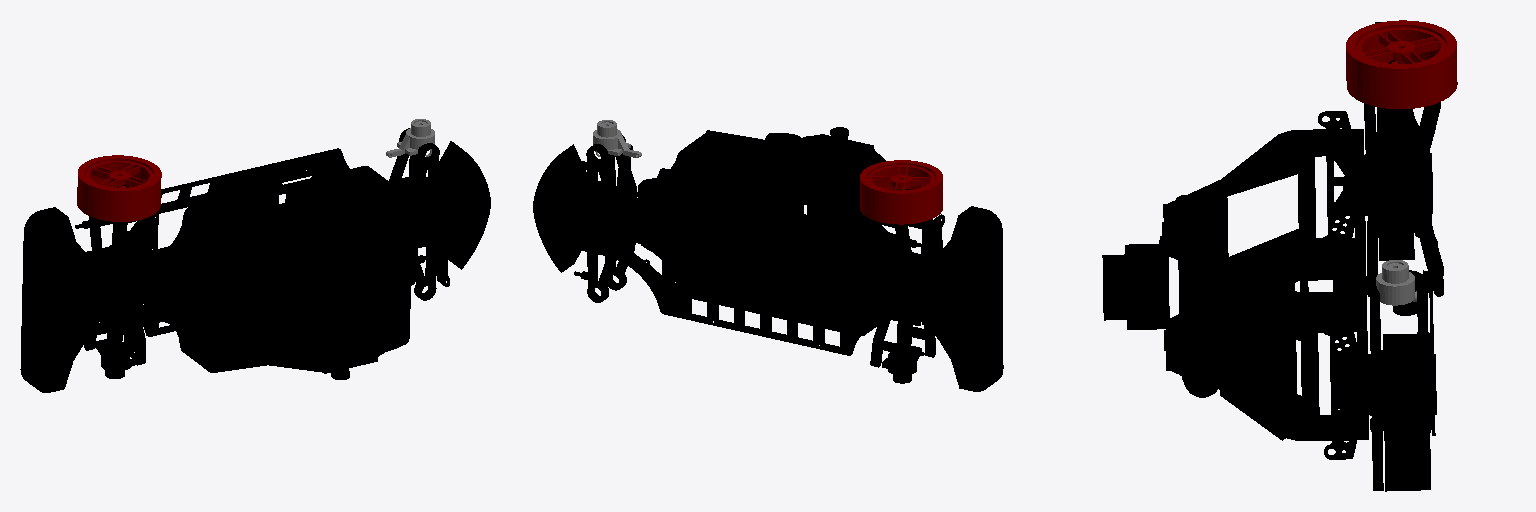
robot.urdf — Vehiculo_URDF:
<?xml version="1.0" encoding="utf-8"?>
<!-- This URDF was automatically created by SolidWorks to URDF Exporter! Originally created by [author] ([email redacted]) 
     Commit Version: 1.6.0-4-g7f85cfe  Build Version: 1.6.7995.38578
     For more information, please see http://wiki.ros.org/sw_urdf_exporter -->
<robot
  name="Vehiculo_URDF">
  <link
    name="base_link">
    <inertial>
      <origin
        xyz="-0.148308470536245 0.0606329921209263 -0.126960040684325"
        rpy="0 0 0" />
      <mass
        value="0.918124750199342" />
      <inertia
        ixx="0.000663823174590489"
        ixy="9.47018014430197E-06"
        ixz="2.17984498984151E-05"
        iyy="0.00149589820415092"
        iyz="-5.00887750584968E-06"
        izz="0.00182051262498479" />
    </inertial>
    <visual>
      <origin
        xyz="0 0 0"
        rpy="0 0 0" />
      <geometry>
        <mesh
          filename="package://Vehiculo_URDF/meshes/base_link.STL" />
      </geometry>
      <material
        name="">
        <color
          rgba="0 0 0 1" />
      </material>
    </visual>
    <collision>
      <origin
        xyz="0 0 0"
        rpy="0 0 0" />
      <geometry>
        <mesh
          filename="package://Vehiculo_URDF/meshes/base_link.STL" />
      </geometry>
    </collision>
  </link>
  <link
    name="back_wheel_left">
    <inertial>
      <origin
        xyz="1.1102E-16 -0.0055555 3.6969E-08"
        rpy="0 0 0" />
      <mass
        value="0.038543" />
      <inertia
        ixx="1.5832E-05"
        ixy="-1.9172E-21"
        ixz="2.1838E-21"
        iyy="2.7611E-05"
        iyz="-7.8379E-11"
        izz="1.5832E-05" />
    </inertial>
    <visual>
      <origin
        xyz="0 0 0"
        rpy="0 0 0" />
      <geometry>
        <mesh
          filename="package://Vehiculo_URDF/meshes/back_wheel_left.STL" />
      </geometry>
      <material
        name="">
        <color
          rgba="0.50196 0 0 1" />
      </material>
    </visual>
    <collision>
      <origin
        xyz="0 0 0"
        rpy="0 0 0" />
      <geometry>
        <mesh
          filename="package://Vehiculo_URDF/meshes/back_wheel_left.STL" />
      </geometry>
    </collision>
  </link>
  <joint
    name="joint_back_wheel_left"
    type="continuous">
    <origin
      xyz="-0.26164 0.16927 0.14674"
      rpy="1.5873 0.014976 0.0079603" />
    <parent
      link="base_link" />
    <child
      link="back_wheel_left" />
    <axis
      xyz="0 1 0" />
    <limit
      effort="100"
      velocity="100" />
    <dynamics
      damping="0.1"
      friction="0.1" />
  </joint>
  <link
    name="back_wheel_right">
    <inertial>
      <origin
        xyz="5.5511E-17 0.0055555 3.6691E-08"
        rpy="0 0 0" />
      <mass
        value="0.038543" />
      <inertia
        ixx="1.5832E-05"
        ixy="-5.5773E-21"
        ixz="1.8396E-21"
        iyy="2.7611E-05"
        iyz="7.7791E-11"
        izz="1.5832E-05" />
    </inertial>
    <visual>
      <origin
        xyz="0 0 0"
        rpy="0 0 0" />
      <geometry>
        <mesh
          filename="package://Vehiculo_URDF/meshes/back_wheel_right.STL" />
      </geometry>
      <material
        name="">
        <color
          rgba="0.50196 0 0 1" />
      </material>
    </visual>
    <collision>
      <origin
        xyz="0 0 0"
        rpy="0 0 0" />
      <geometry>
        <mesh
          filename="package://Vehiculo_URDF/meshes/back_wheel_right.STL" />
      </geometry>
    </collision>
  </link>
  <joint
    name="joint_back_wheel_right"
    type="continuous">
    <origin
      xyz="-0.26415 0.17198 -0.019177"
      rpy="1.5873 0.014976 0.0079603" />
    <parent
      link="base_link" />
    <child
      link="back_wheel_right" />
    <axis
      xyz="0 1 0" />
    <limit
      effort="100"
      velocity="100" />
    <dynamics
      damping="0.1"
      friction="0.1" />
  </joint>
  <link
    name="front_handle_left">
    <inertial>
      <origin
        xyz="-0.003022 0.0098208 -0.010918"
        rpy="0 0 0" />
      <mass
        value="0.0035804" />
      <inertia
        ixx="2.2725E-07"
        ixy="-8.8041E-08"
        ixz="-2.6452E-13"
        iyy="3.3018E-07"
        iyz="7.2923E-14"
        izz="3.6051E-07" />
    </inertial>
    <visual>
      <origin
        xyz="0 0 0"
        rpy="0 0 0" />
      <geometry>
        <mesh
          filename="package://Vehiculo_URDF/meshes/front_handle_left.STL" />
      </geometry>
      <material
        name="">
        <color
          rgba="0.50196 0.50196 0.50196 1" />
      </material>
    </visual>
    <collision>
      <origin
        xyz="0 0 0"
        rpy="0 0 0" />
      <geometry>
        <mesh
          filename="package://Vehiculo_URDF/meshes/front_handle_left.STL" />
      </geometry>
    </collision>
  </link>
  <joint
    name="joint_front_handle_left"
    type="revolute">
    <origin
      xyz="-0.0029527 0.15521 0.11611"
      rpy="1.5873 0.014976 0.0079603" />
    <parent
      link="base_link" />
    <child
      link="front_handle_left" />
    <axis
      xyz="0 0 1" />
    <limit
      lower="0"
      upper="0"
      effort="100"
      velocity="100" />
    <dynamics
      damping="0.1"
      friction="0.1" />
  </joint>
  <link
    name="front_wheel_left">
    <inertial>
      <origin
        xyz="1.648E-17 -0.0064834 2.498E-16"
        rpy="0 0 0" />
      <mass
        value="0.063174" />
      <inertia
        ixx="3.6075E-05"
        ixy="-7.3809E-21"
        ixz="-3.1764E-22"
        iyy="6.2912E-05"
        iyz="3.9705E-21"
        izz="3.6075E-05" />
    </inertial>
    <visual>
      <origin
        xyz="0 0 0"
        rpy="0 0 0" />
      <geometry>
        <mesh
          filename="package://Vehiculo_URDF/meshes/front_wheel_left.STL" />
      </geometry>
      <material
        name="">
        <color
          rgba="0.50196 0 0 1" />
      </material>
    </visual>
    <collision>
      <origin
        xyz="0 0 0"
        rpy="0 0 0" />
      <geometry>
        <mesh
          filename="package://Vehiculo_URDF/meshes/front_wheel_left.STL" />
      </geometry>
    </collision>
  </link>
  <joint
    name="joint_front_wheel_left"
    type="continuous">
    <origin
      xyz="0 0.026485 -0.010918"
      rpy="0 0 0" />
    <parent
      link="front_handle_left" />
    <child
      link="front_wheel_left" />
    <axis
      xyz="0 1 0" />
    <limit
      effort="100"
      velocity="100" />
    <dynamics
      damping="0.1"
      friction="0.1" />
  </joint>
  <link
    name="front_handle_right">
    <inertial>
      <origin
        xyz="-0.0030221 -0.0098209 -0.010918"
        rpy="0 0 0" />
      <mass
        value="0.0035804" />
      <inertia
        ixx="2.2725E-07"
        ixy="8.8041E-08"
        ixz="2.8912E-13"
        iyy="3.3018E-07"
        iyz="1.2676E-13"
        izz="3.6051E-07" />
    </inertial>
    <visual>
      <origin
        xyz="0 0 0"
        rpy="0 0 0" />
      <geometry>
        <mesh
          filename="package://Vehiculo_URDF/meshes/front_handle_right.STL" />
      </geometry>
      <material
        name="">
        <color
          rgba="0.50196 0.50196 0.50196 1" />
      </material>
    </visual>
    <collision>
      <origin
        xyz="0 0 0"
        rpy="0 0 0" />
      <geometry>
        <mesh
          filename="package://Vehiculo_URDF/meshes/front_handle_right.STL" />
      </geometry>
    </collision>
  </link>
  <joint
    name="joint_front_handle_right"
    type="revolute">
    <origin
      xyz="-0.0046594 0.15706 0.003143"
      rpy="1.5873 0.014976 0.0079603" />
    <parent
      link="base_link" />
    <child
      link="front_handle_right" />
    <axis
      xyz="0 0 1" />
    <limit
      lower="0"
      upper="0"
      effort="100"
      velocity="100" />
    <dynamics
      damping="0.1"
      friction="0.1" />
  </joint>
  <link
    name="front_wheel_right">
    <inertial>
      <origin
        xyz="1.3444E-17 0.0064834 2.2204E-16"
        rpy="0 0 0" />
      <mass
        value="0.063174" />
      <inertia
        ixx="3.6075E-05"
        ixy="-9.3678E-22"
        ixz="-1.9852E-21"
        iyy="6.2912E-05"
        iyz="1.4823E-21"
        izz="3.6075E-05" />
    </inertial>
    <visual>
      <origin
        xyz="0 0 0"
        rpy="0 0 0" />
      <geometry>
        <mesh
          filename="package://Vehiculo_URDF/meshes/front_wheel_right.STL" />
      </geometry>
      <material
        name="">
        <color
          rgba="0.50196 0 0 1" />
      </material>
    </visual>
    <collision>
      <origin
        xyz="0 0 0"
        rpy="0 0 0" />
      <geometry>
        <mesh
          filename="package://Vehiculo_URDF/meshes/front_wheel_right.STL" />
      </geometry>
    </collision>
  </link>
  <joint
    name="joint_front_wheel_right"
    type="continuous">
    <origin
      xyz="0 -0.026485 -0.010918"
      rpy="0 0 0" />
    <parent
      link="front_handle_right" />
    <child
      link="front_wheel_right" />
    <axis
      xyz="0 1 0" />
    <limit
      effort="0.1"
      velocity="0.1" />
    <dynamics
      damping="0.1"
      friction="0.1" />
  </joint>
</robot>

--- What the picture shows (computed from the rendered views, not written in the file) ---
The picture shows the robot from 3 angles, left to right: view 1: azimuth 30°, elevation 25°; view 2: azimuth 150°, elevation 25°; view 3: azimuth 270°, elevation 25°; orthographic projection.
Model Vehiculo_URDF with 7 links and 6 joints (2 revolute, 4 continuous), rooted at base_link, posed all joints at 0.
Visible links, largest first — view 1: base_link, back_wheel_left, front_handle_left; view 2: base_link, back_wheel_left, front_handle_left; view 3: base_link, back_wheel_left, front_handle_left.
Link boxes in pixels (box(x1,y1,x2,y2)): base_link: box(20, 128, 490, 392); back_wheel_left: box(77, 155, 161, 221); front_handle_left: box(386, 119, 434, 157); base_link: box(533, 127, 1003, 391); back_wheel_left: box(860, 160, 942, 224); front_handle_left: box(593, 120, 641, 157); base_link: box(1102, 22, 1443, 491); back_wheel_left: box(1346, 20, 1457, 108); front_handle_left: box(1376, 260, 1416, 305).
Bounding box of the posed robot: 0.398 × 0.2014 × 0.1683 m (x, y, z).
3 mesh visuals loaded from 7 distinct referenced files (3 binary STL); not drawn: 4 (reference not matched to a file when rendering).